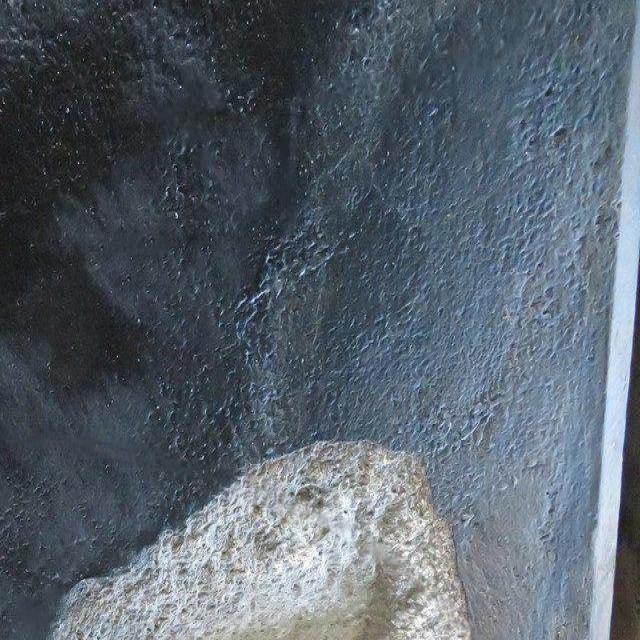concrete spalling: (49, 436, 471, 639)
